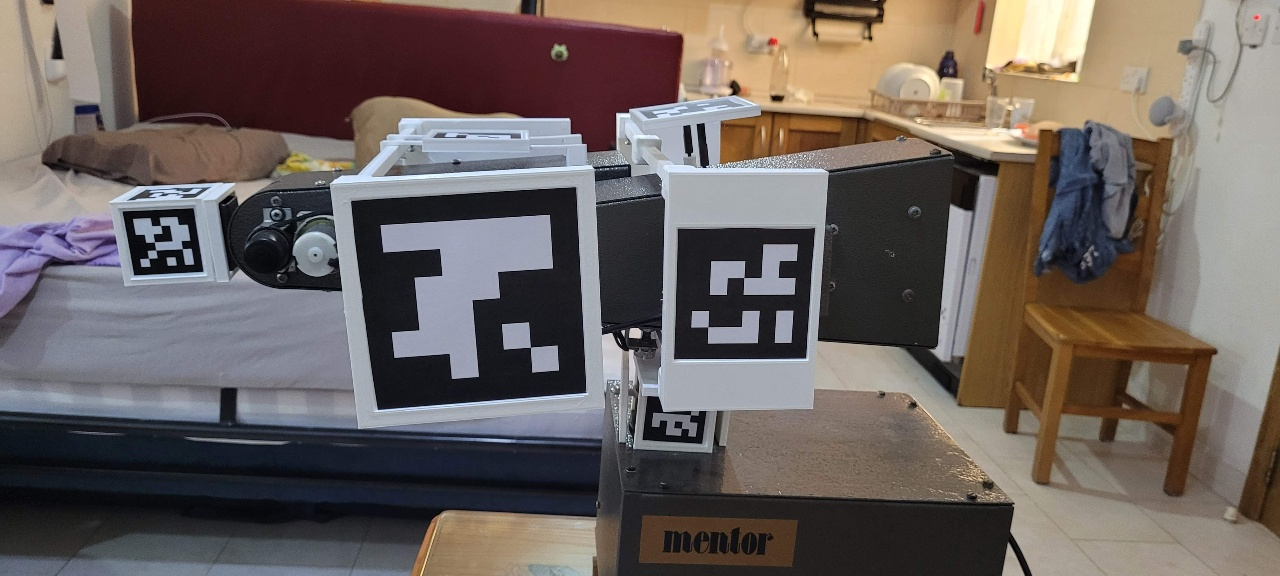Robot: (109, 95, 955, 456)
